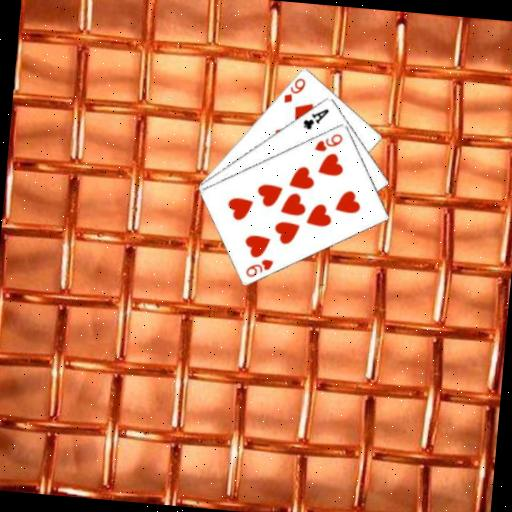9D: (280, 73, 308, 107)
9H: (242, 254, 275, 281), (311, 129, 345, 155)
AC: (300, 103, 332, 133)
